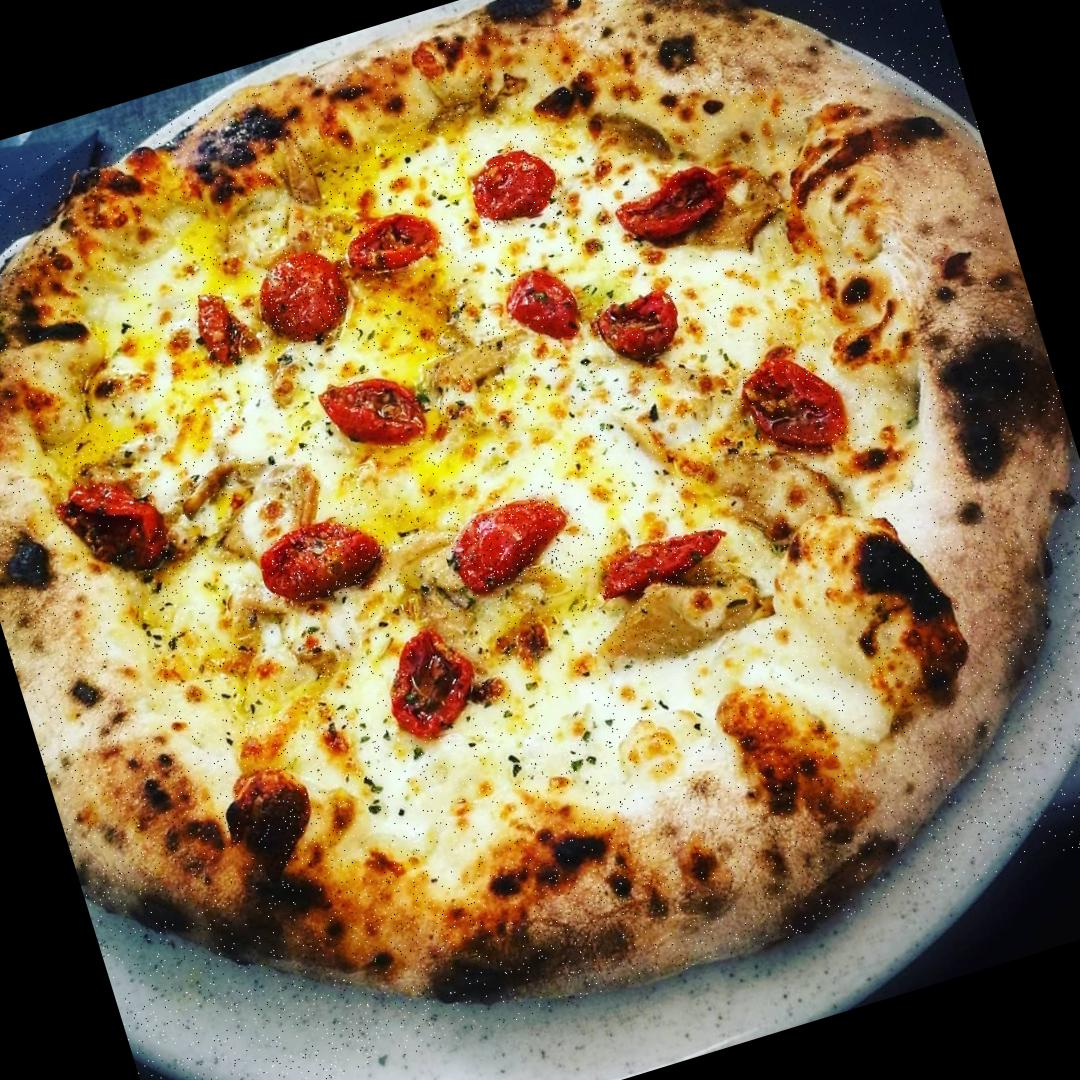Pizza: (0, 0, 1080, 1080)
Tomatoes: (436, 483, 584, 601), (53, 465, 184, 596), (253, 506, 396, 616), (601, 155, 740, 263), (374, 618, 488, 747), (738, 344, 856, 468), (248, 242, 358, 355), (316, 358, 436, 461), (598, 522, 734, 604), (463, 136, 569, 233), (588, 287, 694, 372), (500, 262, 586, 358), (342, 204, 440, 284), (183, 282, 253, 369)
